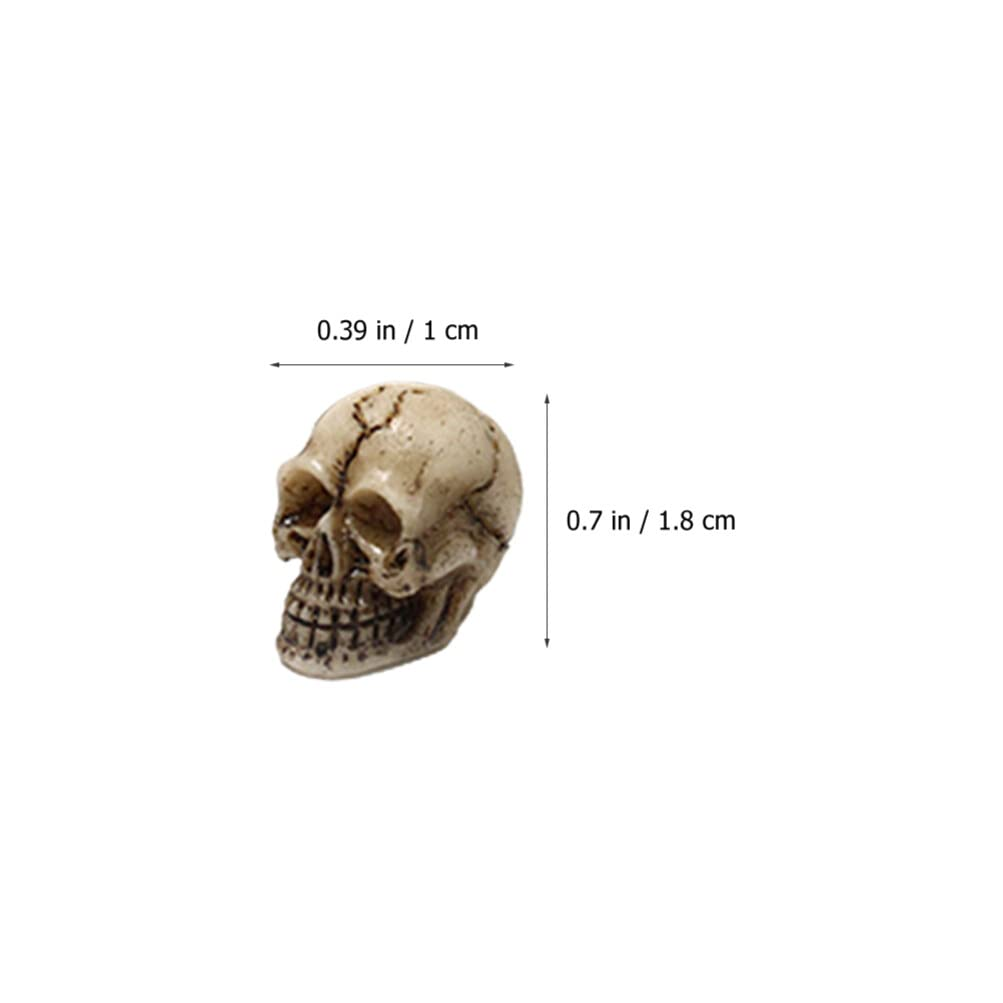0.39: (318, 320, 367, 340)
0.7: (567, 510, 602, 531)
1.8: (660, 510, 693, 531)
cm: (703, 514, 735, 530)
in/: (612, 510, 649, 534)
in/1icm: (377, 319, 478, 344)
